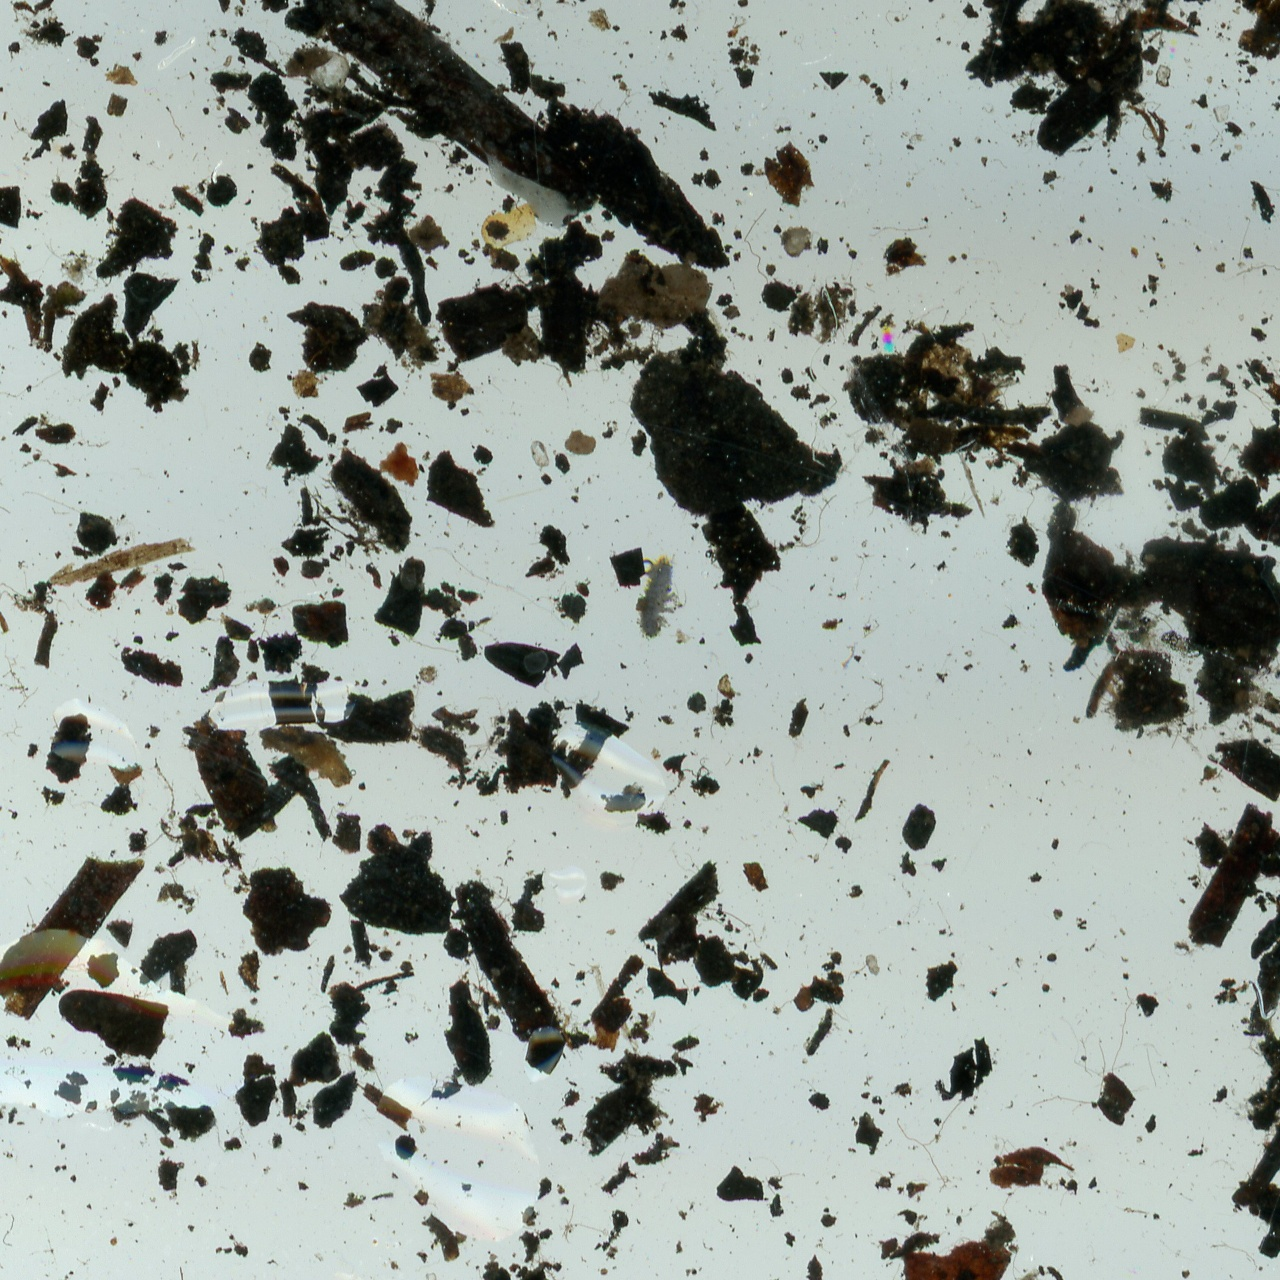arthropod: (629, 546, 690, 648)
